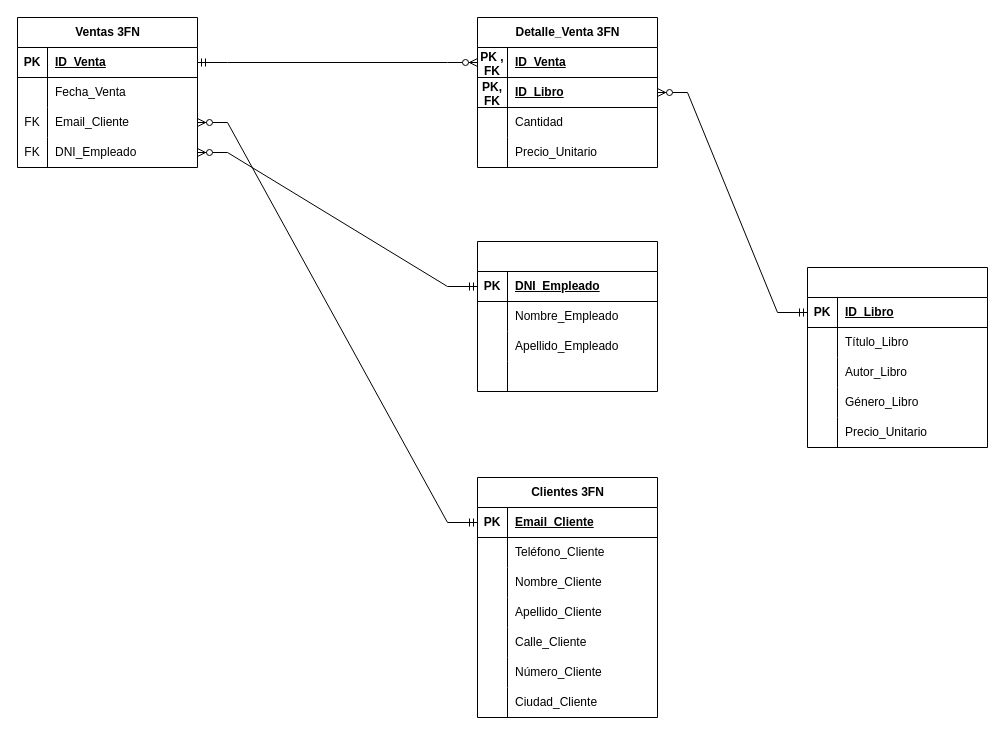
This 1005x735 diagram has some shape labels left out. The shapes that lost their labels are listed below. From the top down, each one's box as (x1, y1, x2, y2) in pixels, then its label:
(476, 240, 658, 392): Empleados 3FN
(806, 266, 988, 448): Libros 3FN
